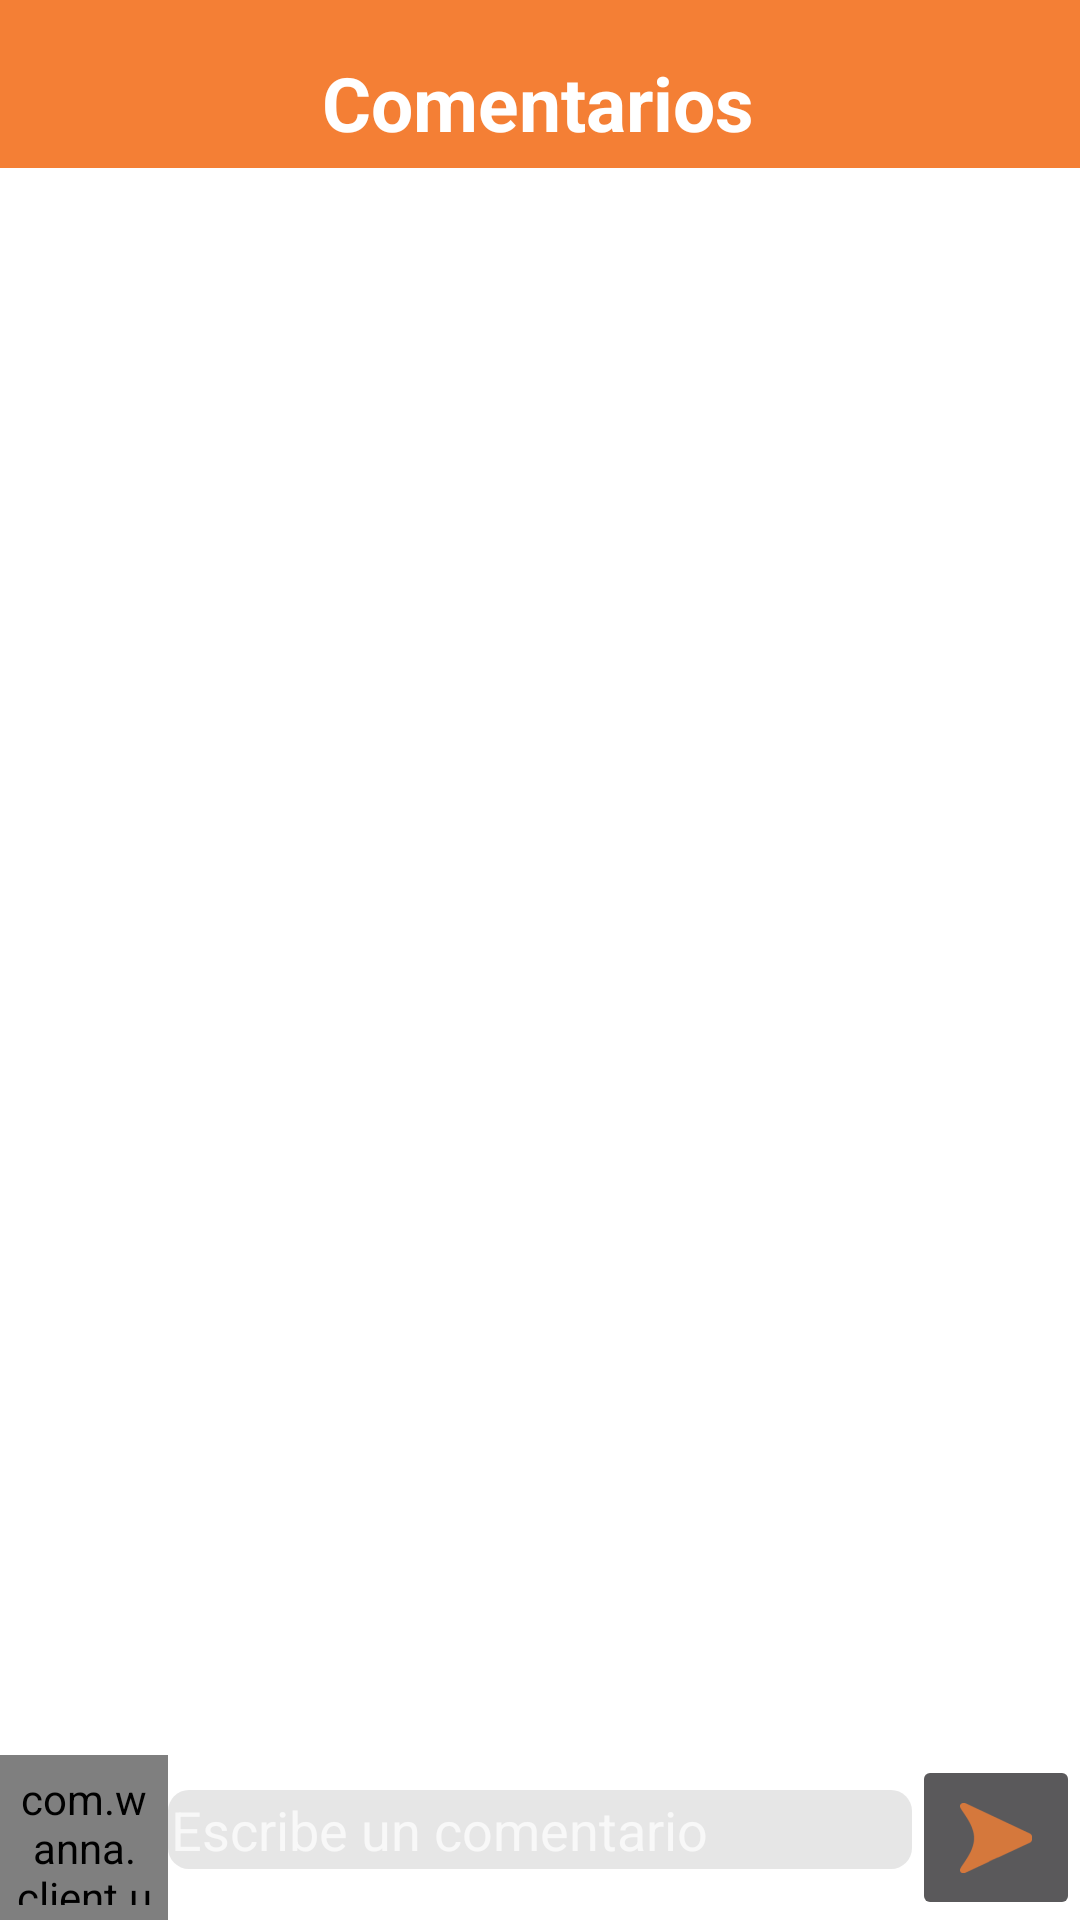

Icons on this 1080x1920 Android screen, each with the point to tap as (x=x, y=y):
sendbtn: (x=996, y=1837)
